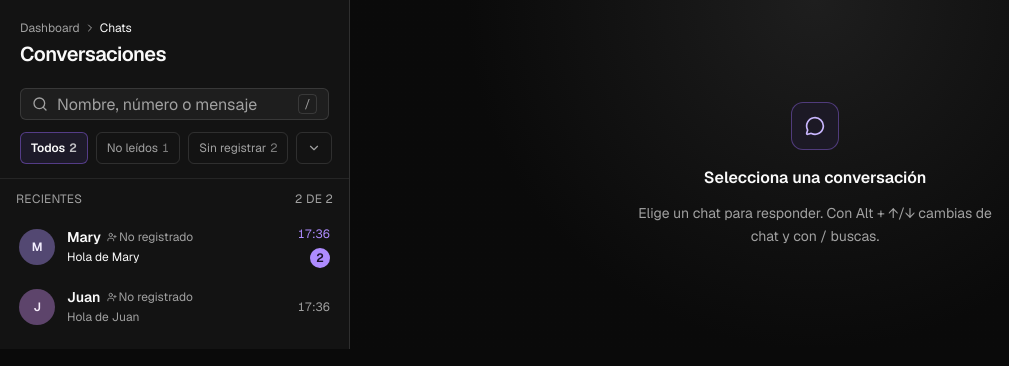
ChatsPage › filters and searches the list
Click the button with aria-label "No leídos (1)": (138, 148) [96, 132, 180, 164]
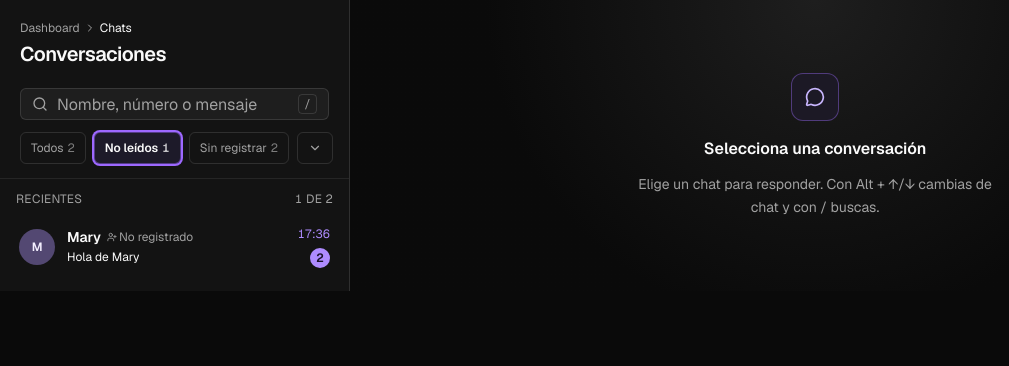
Result: the button "Juan" is gone
Click the button "Todos 2": (53, 148) [20, 132, 86, 164]
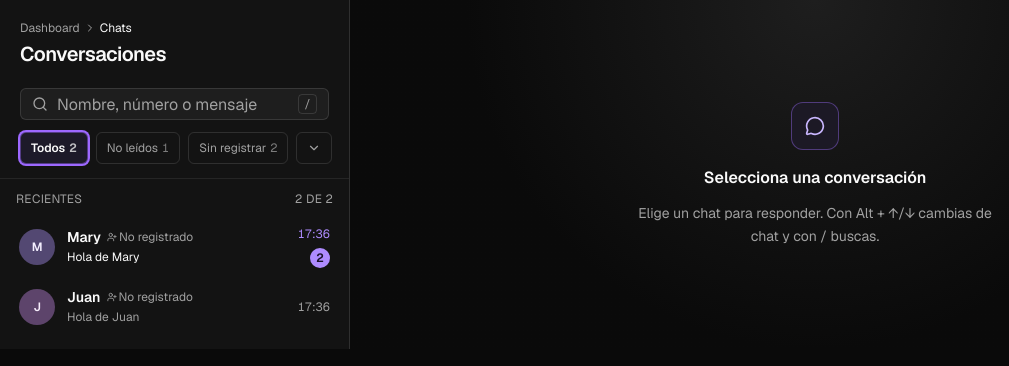
In the field named "Buscar conversación": (174, 104) [20, 88, 329, 120], type "juan"
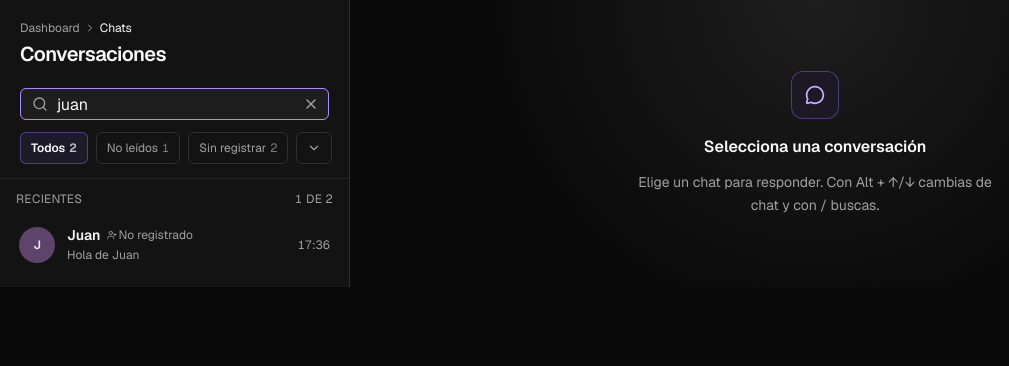
Result: the text "Juan" is shown at [67, 227, 100, 244]
Result: the button "Mary" is gone
